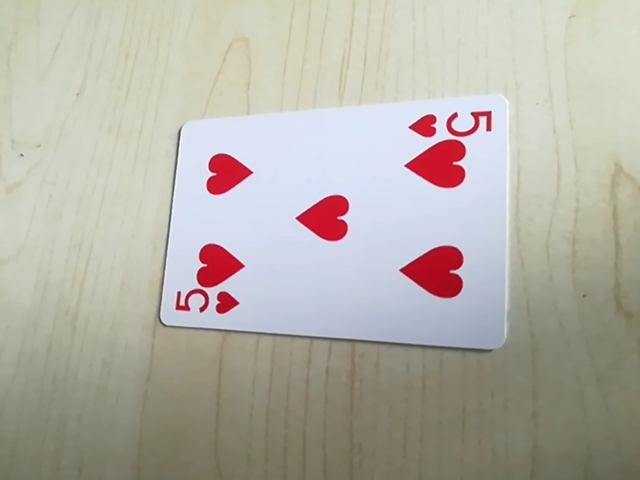hx 5: (406, 100, 496, 141), (168, 288, 243, 325)
